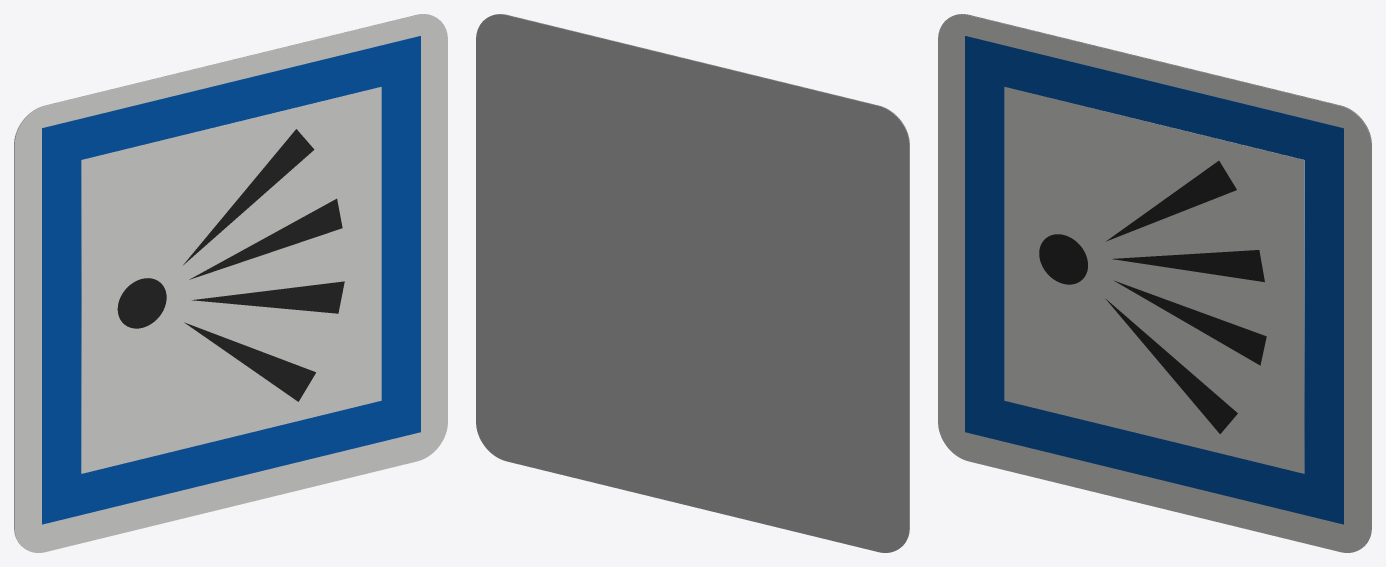
The picture shows the model from 3 angles, left to right: view 1: azimuth 30°, elevation 25°; view 2: azimuth 150°, elevation 25°; view 3: azimuth 330°, elevation 25°; orthographic projection.
Parts seen in each view (by area): view 1: CE21_p02, CE21_p01, CE21_p00, CE21_p04, CE21_p05, CE21_p03, CE21_p06, CE21_p07, CE21_dos; view 2: CE21_dos, CE21_p00; view 3: CE21_p02, CE21_p01, CE21_p00, CE21_p05, CE21_p04, CE21_p06, CE21_p03, CE21_p07, CE21_dos.
Boxes of the visible parts, x1,y1,x2,y2 form: CE21_p02: (81,87,381,473); CE21_p01: (42,36,420,524); CE21_p00: (14,14,447,552); CE21_p04: (189,198,342,279); CE21_p05: (192,281,344,313); CE21_p03: (183,129,314,264); CE21_p06: (184,322,315,401); CE21_p07: (117,278,166,328); CE21_dos: (14,14,430,546); CE21_dos: (476,14,909,552); CE21_p00: (493,14,909,546); CE21_p02: (1004,87,1304,473); CE21_p01: (965,36,1343,524); CE21_p00: (938,14,1371,552); CE21_p05: (1114,280,1266,365); CE21_p04: (1112,250,1264,282); CE21_p06: (1106,299,1237,433); CE21_p03: (1106,161,1236,241); CE21_p07: (1039,234,1087,284); CE21_dos: (955,14,1371,546).
Size of the model in its own units: 0.7 by 0.6889 by 0.0047.
